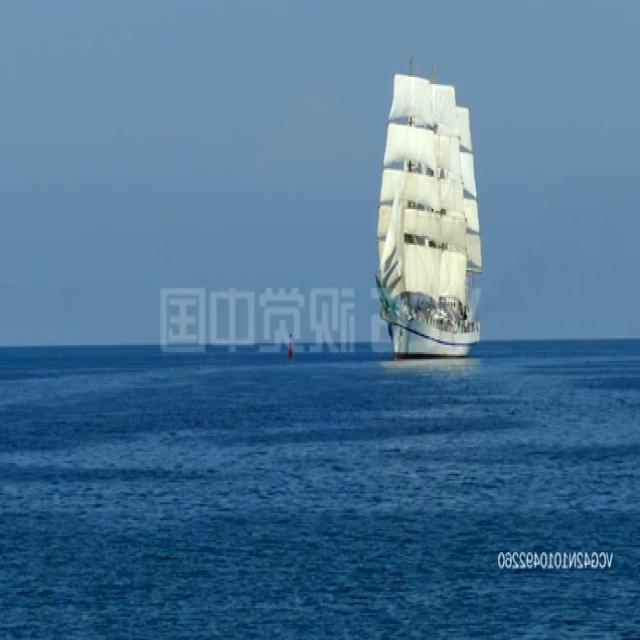sailboat: (376, 63, 480, 366)
